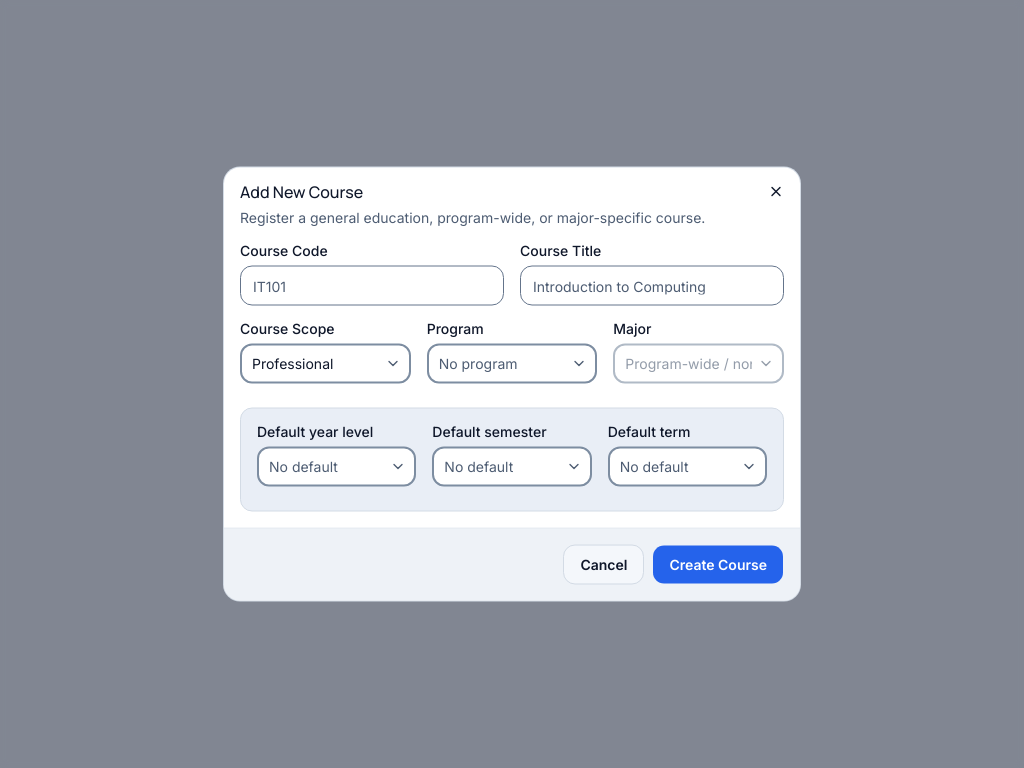
Test case: CourseCreateDialog › toasts the server error and keeps the dialog open when the create fails
The width and height of the screenshot is (1024, 768).
In the field labelled "Course Code": point(372, 286) [240,266,504,306], type "GE9"
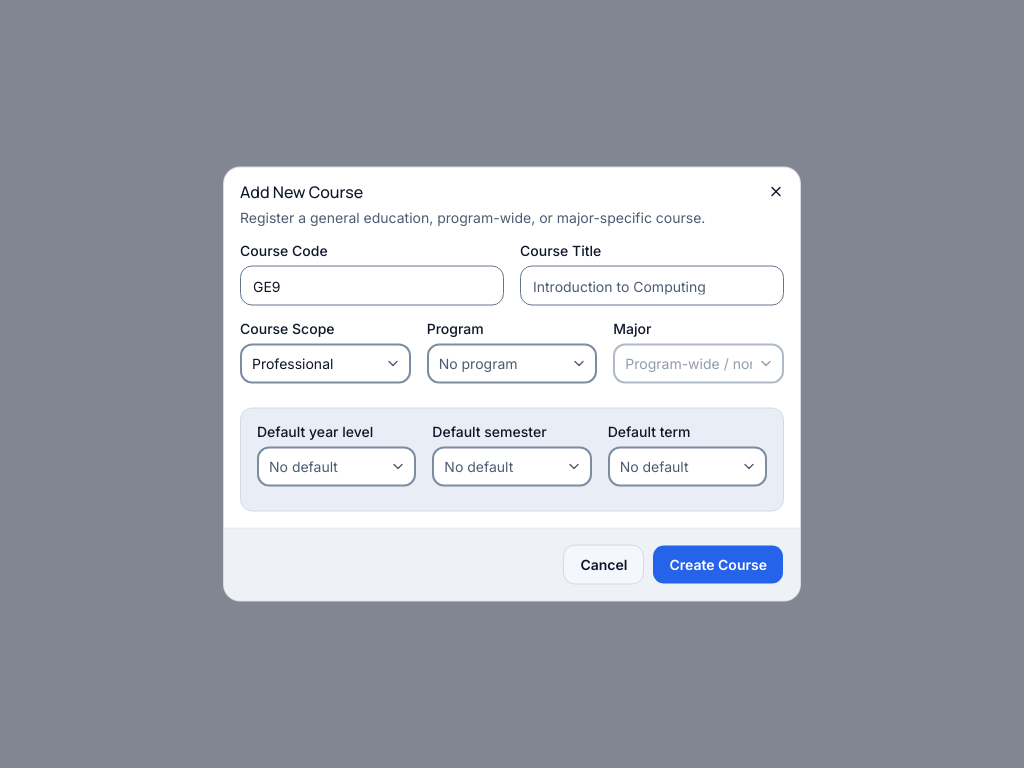
In the field labelled "Course Title": point(652, 286) [520,266,784,306], type "Ethics"
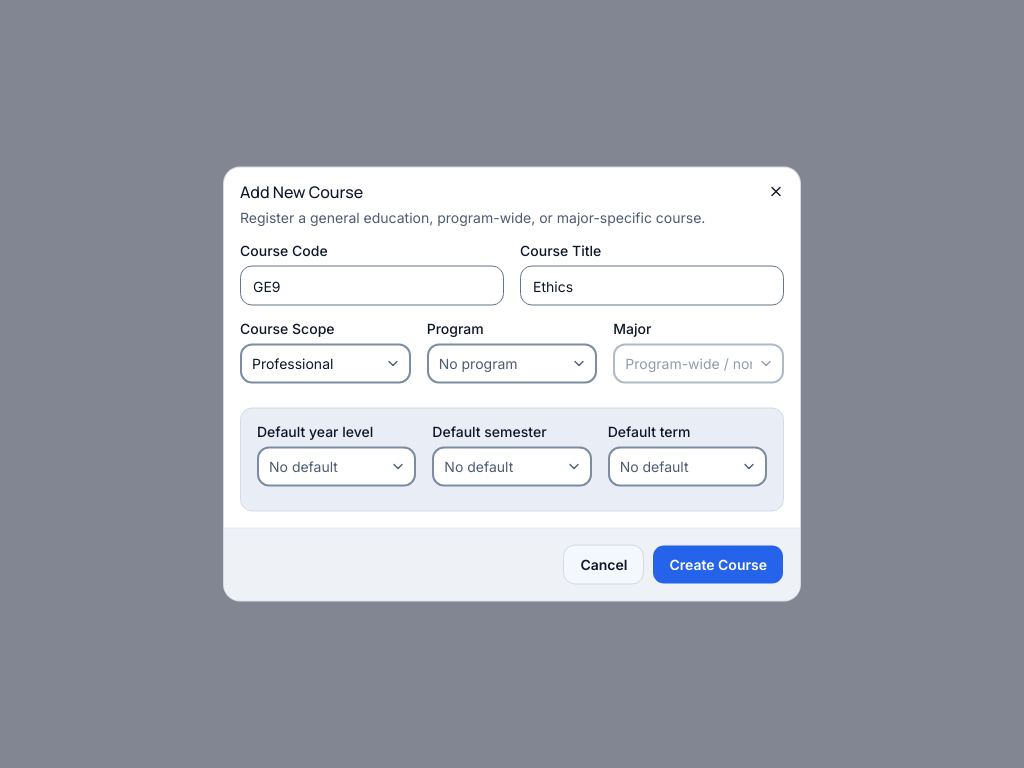
Click the button "Create Course": point(718, 564) [652,544,784,584]
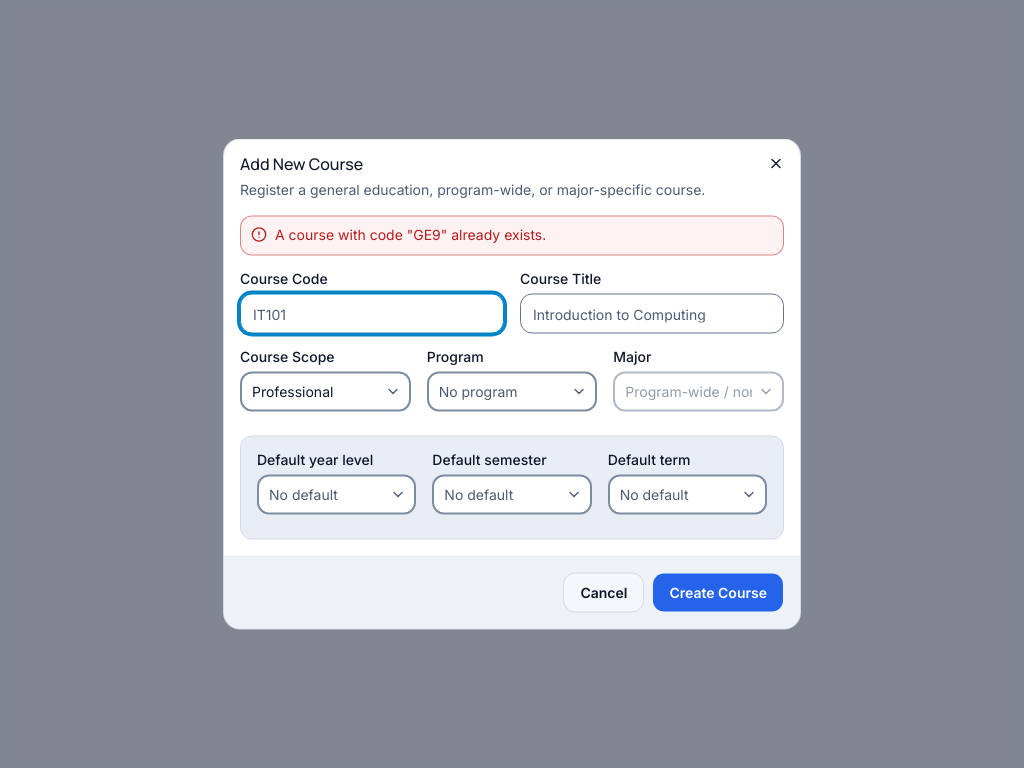
Now the text "A course with code \"GE9\" already exists." is shown, box [275,226,546,242]
